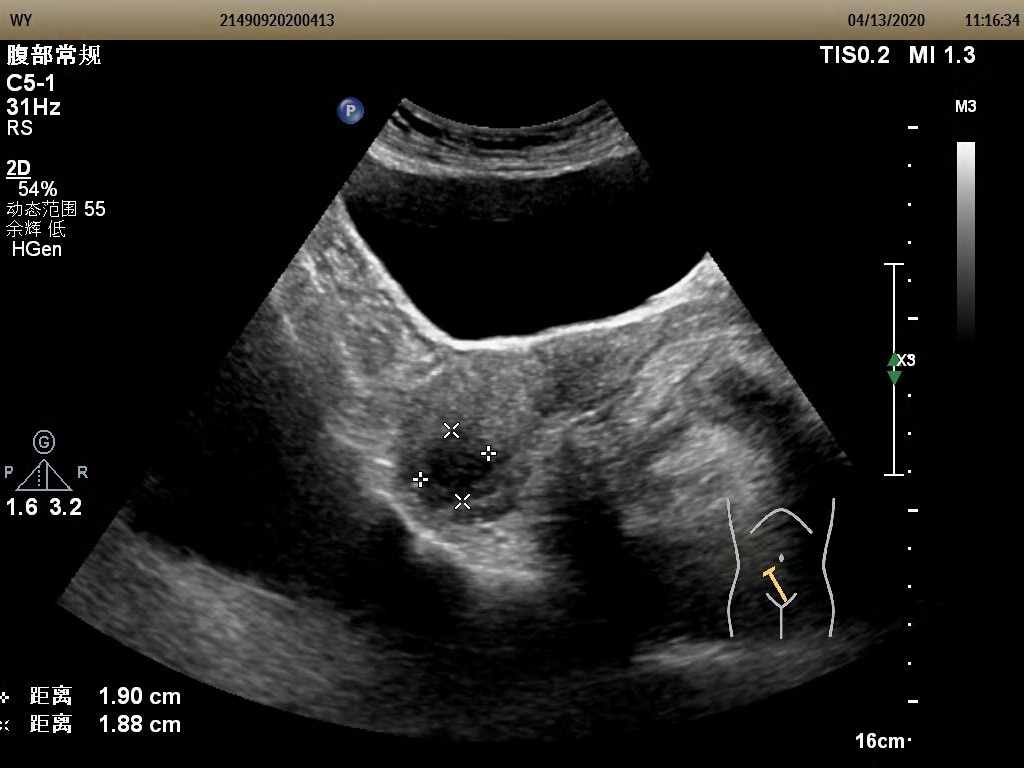肌瘤: (423, 437, 492, 499)
